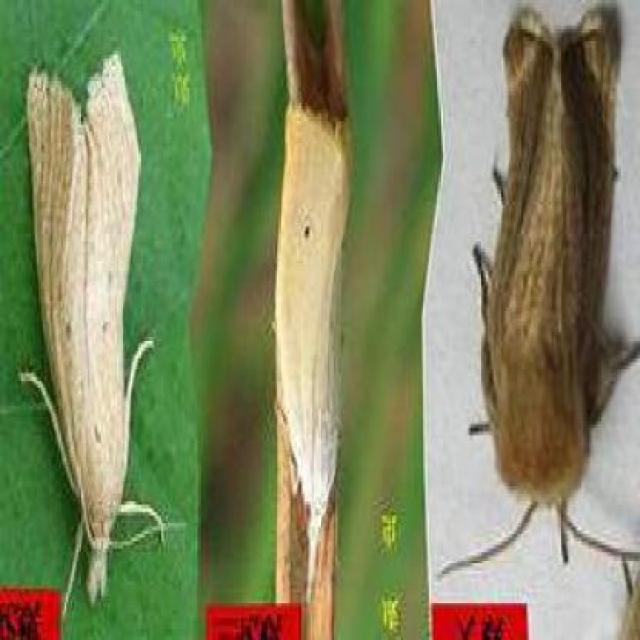stem-borer: (432, 8, 640, 586), (11, 39, 187, 611), (271, 106, 355, 597)
